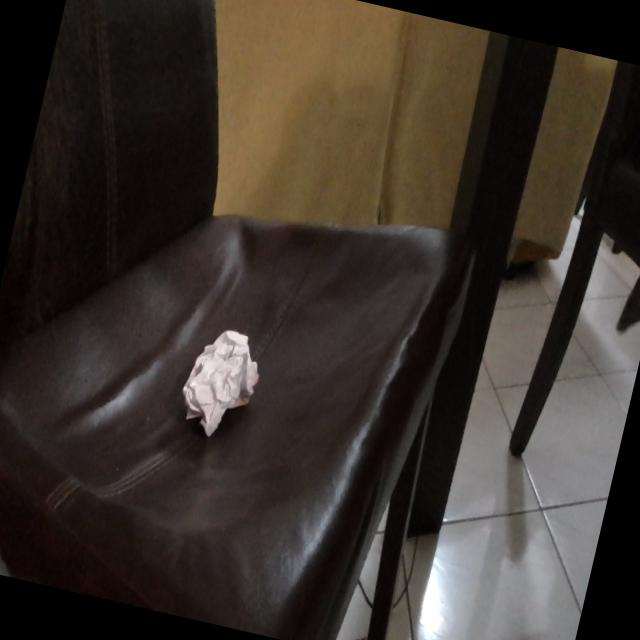crumpled_paper: (172, 320, 268, 446)
